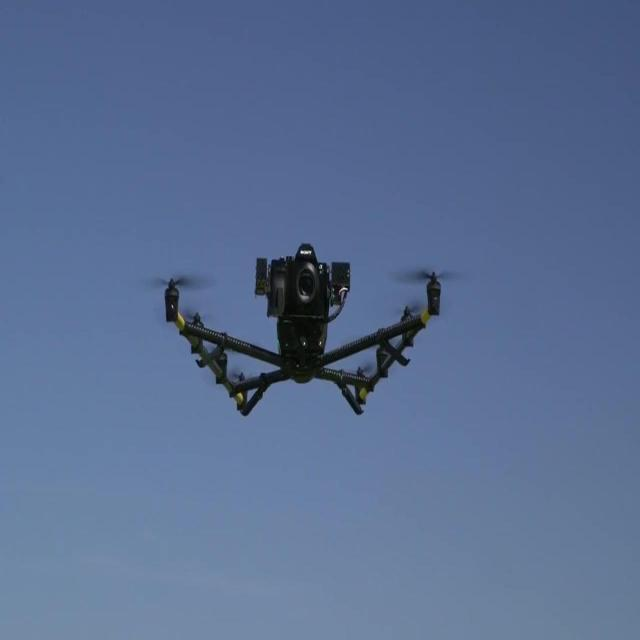drone: (143, 240, 448, 421)
